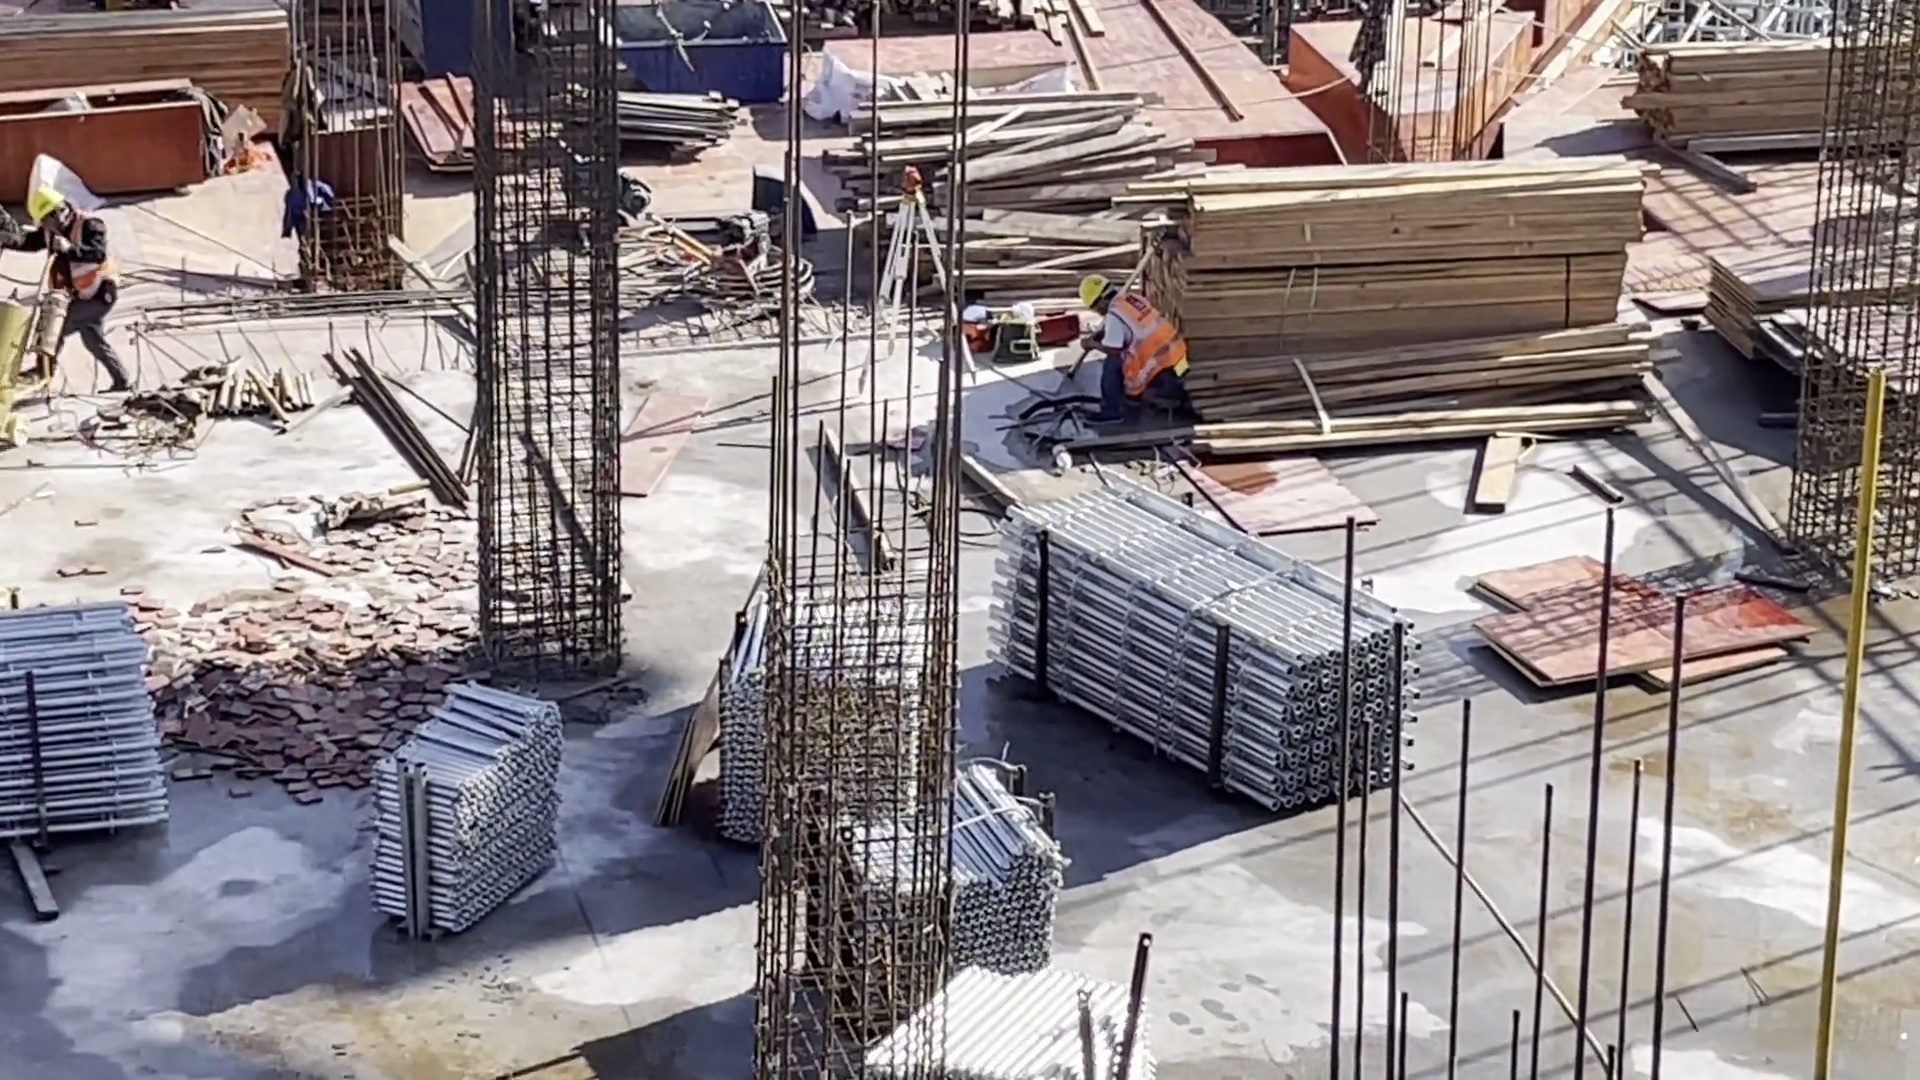board: (1706, 246, 1920, 431)
helmet: (25, 190, 65, 227), (1078, 268, 1113, 306)
hopper: (589, 6, 789, 100)
person: (22, 187, 130, 394), (1074, 268, 1189, 416)
scaffold: (724, 564, 1151, 1080), (988, 465, 1414, 822), (369, 678, 565, 934), (2, 598, 170, 844)
vest: (1104, 291, 1183, 397), (43, 217, 115, 298)
wood: (1113, 154, 1661, 443), (826, 90, 1161, 307), (1620, 31, 1920, 166), (4, 11, 294, 134)
